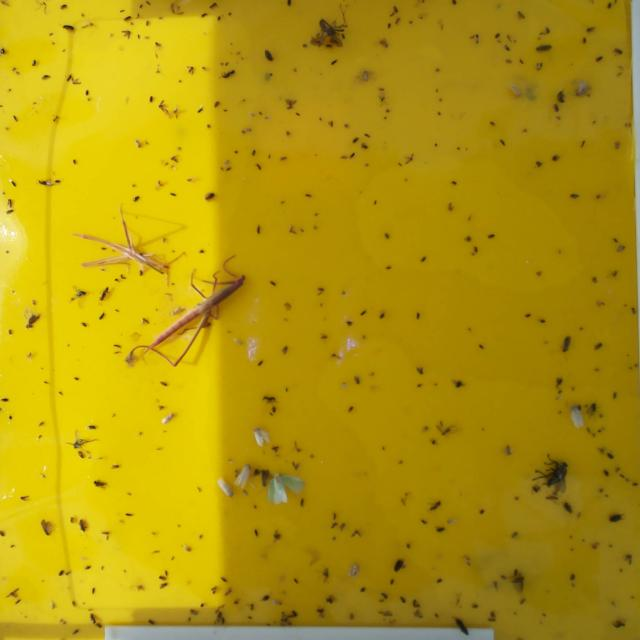Apis sp: (543, 456, 569, 488)
Cofana spectra: (268, 473, 306, 505), (214, 475, 235, 500), (238, 464, 255, 490), (570, 406, 586, 430), (254, 427, 273, 446)
Oncocephalus sp: (310, 16, 352, 47)
Ostrinia sp atau Crocidophora sp: (506, 79, 530, 104), (344, 559, 366, 579), (573, 80, 594, 96), (159, 411, 177, 429)
Paederus fuscipes: (99, 284, 112, 304), (38, 177, 58, 188)
